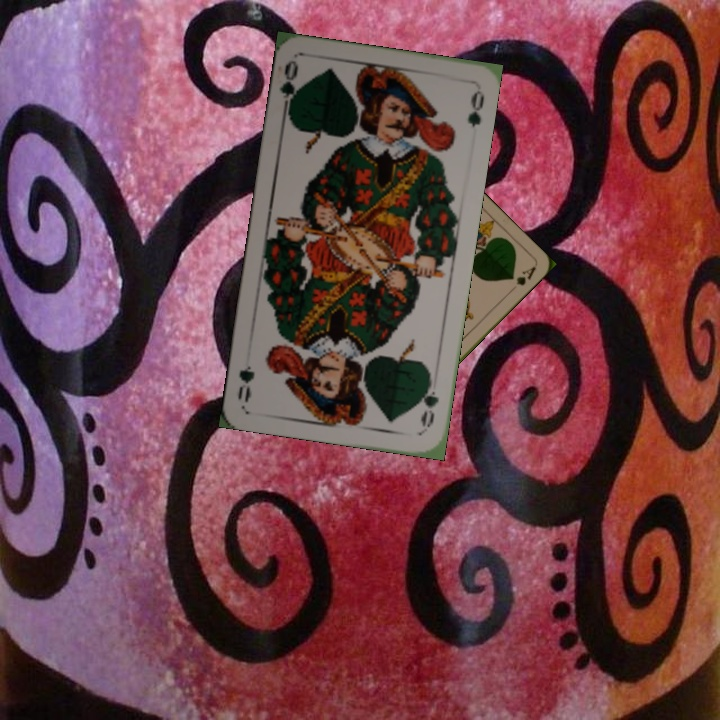GO: (276, 58, 304, 118), (416, 372, 442, 431)
